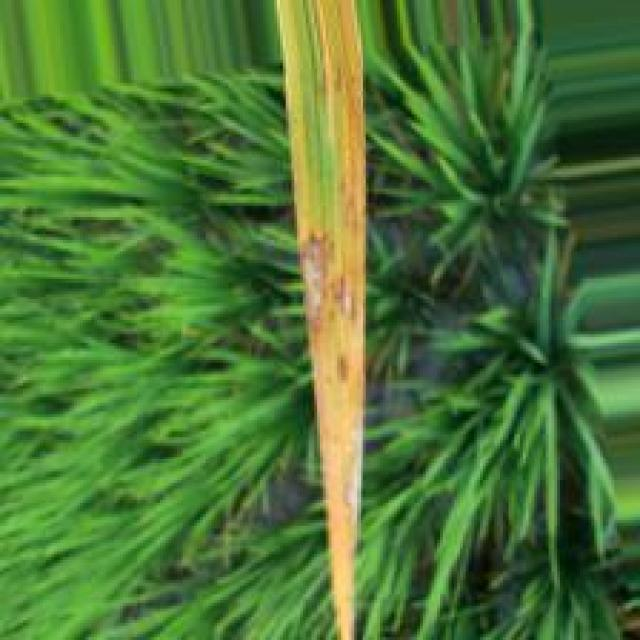Bacterial_Leaf_Blight: (277, 0, 365, 640)
